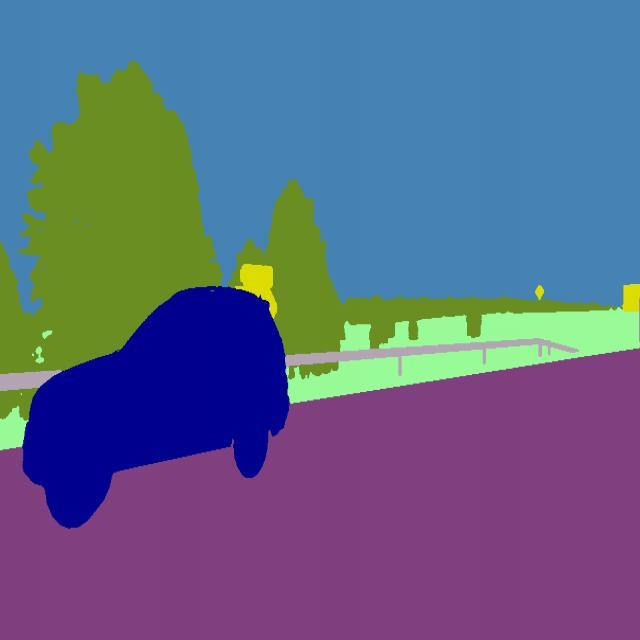safe: (13, 268, 295, 536)
